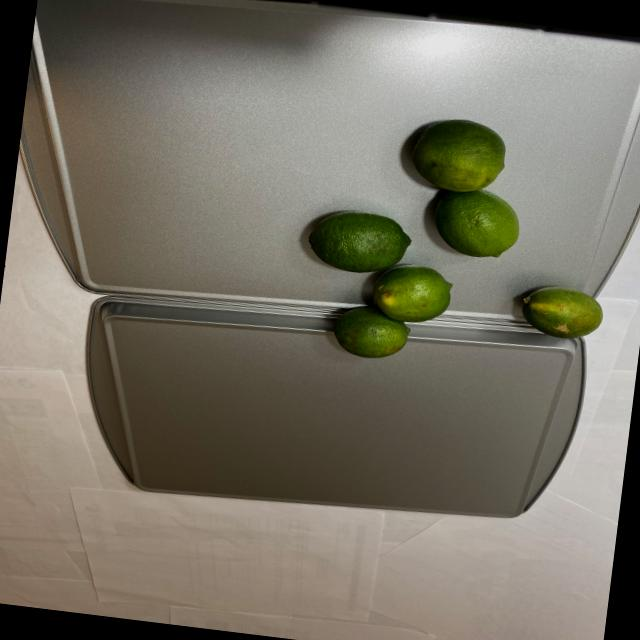lemon: (281, 105, 527, 378), (518, 282, 608, 341)
